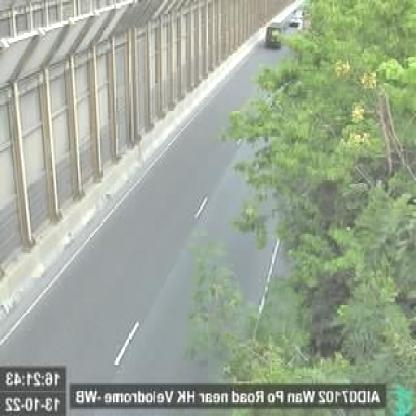Car: (265, 23, 287, 48), (289, 13, 303, 29)
